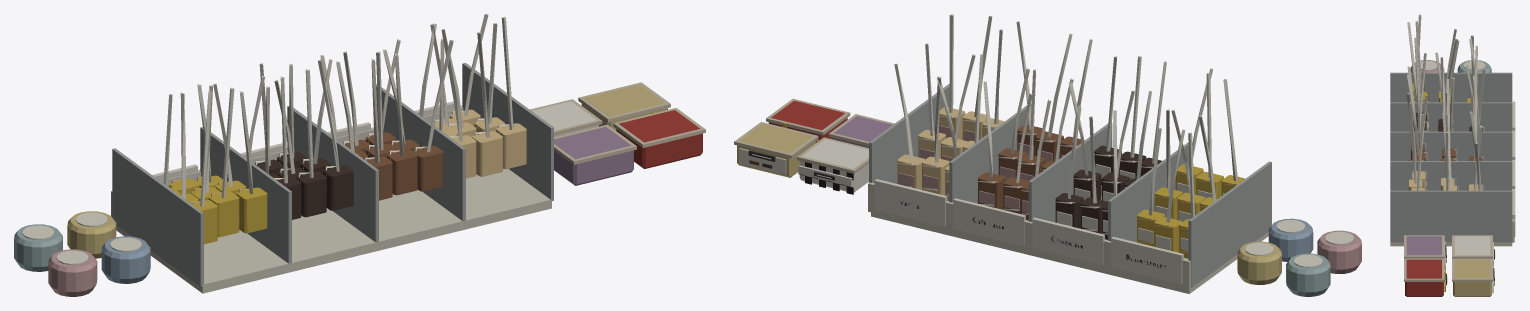
File: pops.glb
The picture shows the model from 3 angles, left to right: view 1: azimuth 30°, elevation 25°; view 2: azimuth 150°, elevation 25°; view 3: azimuth 270°, elevation 25°; orthographic projection. The views are drawn at different scales.
Parts seen in each view (by area): view 1: Sees_pops; view 2: Sees_pops; view 3: Sees_pops.
Part boxes in pixels (x1=…): Sees_pops: x1=14, y1=14, x2=705, y2=296; Sees_pops: x1=734, y1=14, x2=1361, y2=296; Sees_pops: x1=1390, y1=14, x2=1515, y2=296.
Size of the model in its own units: 1.19 by 0.3219 by 0.2954.
